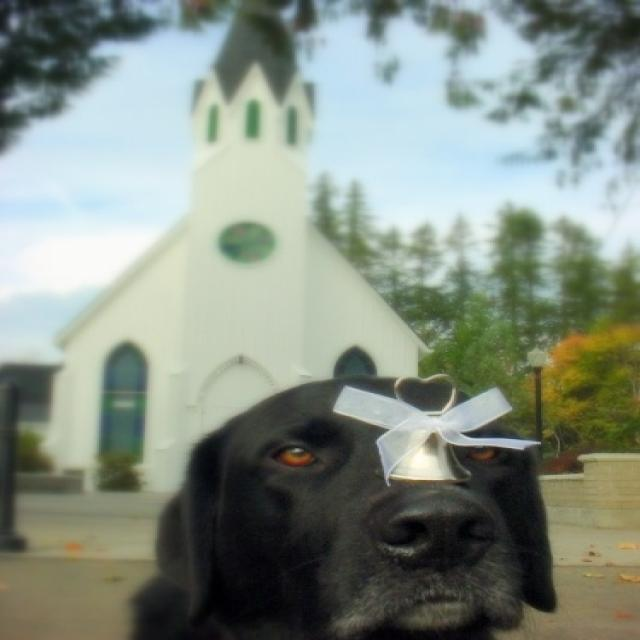dog: (138, 378, 556, 638)
